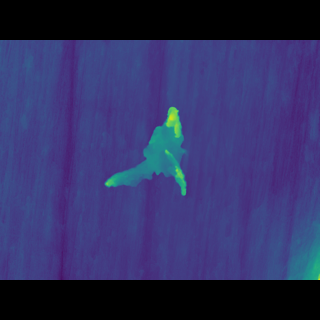Loch: (98, 119, 197, 190)
